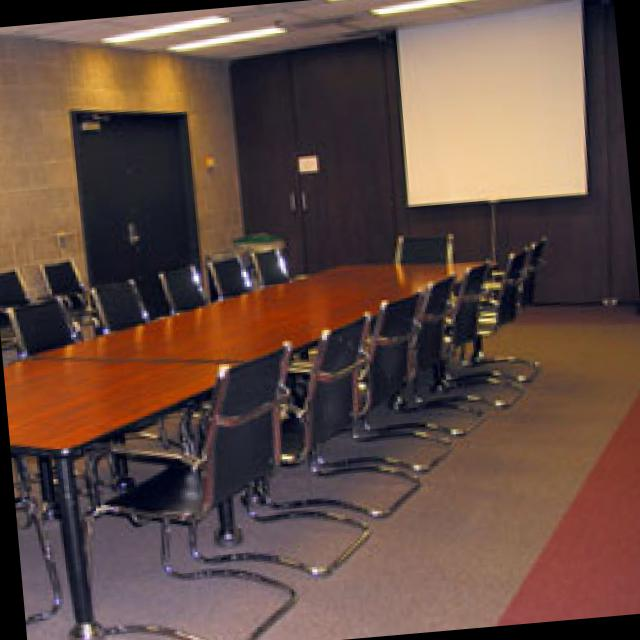ceiling lamps: (173, 17, 292, 51), (107, 10, 233, 41), (373, 0, 471, 16)
chair: (13, 295, 78, 348), (94, 278, 156, 328), (500, 241, 534, 317), (161, 266, 213, 310), (39, 257, 86, 294), (214, 254, 257, 293), (397, 231, 453, 258), (0, 266, 29, 318), (256, 250, 294, 280)
chair -occluded-: (84, 340, 303, 640), (266, 313, 422, 512), (369, 286, 485, 433), (415, 268, 529, 409), (458, 265, 544, 375)
conference table: (8, 257, 493, 640)
door bars: (232, 33, 392, 271), (76, 108, 205, 329)
door mat: (130, 218, 145, 244)
picture occluded: (303, 149, 322, 171)
projection screen: (402, 0, 592, 199)
wall outlets: (58, 226, 71, 244)
